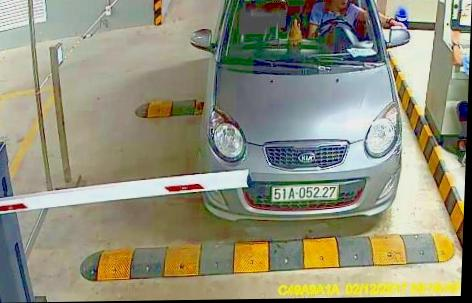License_Plate: (268, 181, 340, 207)
